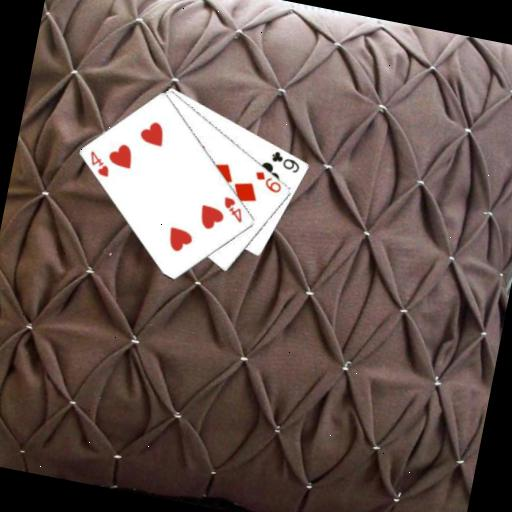4H: (218, 194, 249, 226), (84, 147, 115, 179)
6C: (267, 147, 304, 176)
9D: (250, 167, 286, 196)
